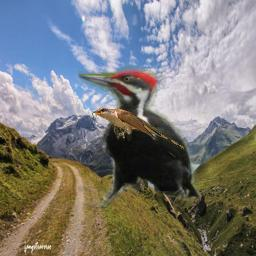Cuckoo: (90, 107, 187, 150)
Woodpecker: (78, 61, 202, 208)
